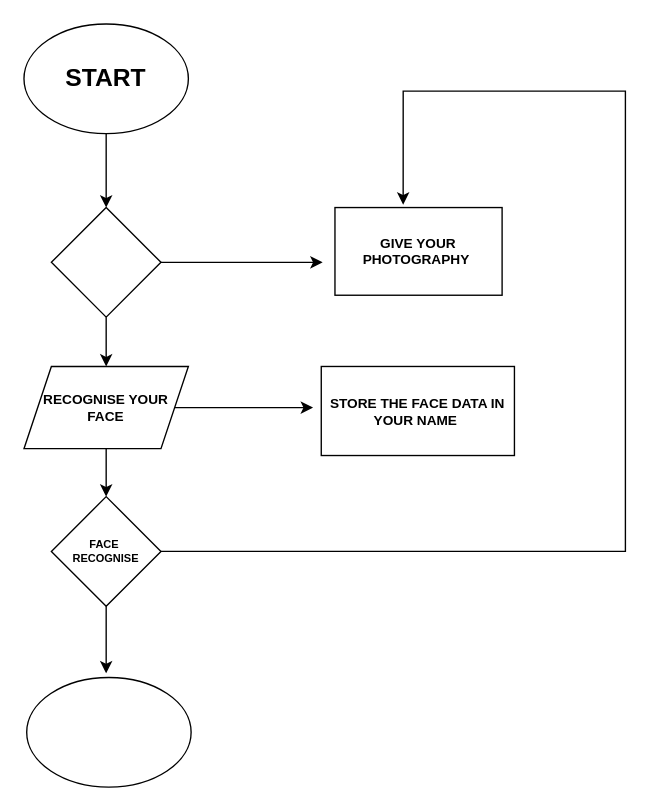
Image size: 660x811. Some labels were removed from this diagram. The centre of each missing label's shape, as x and y in pixels:
"END" goes at [108,731].
"NEW USER" goes at [105,261].
